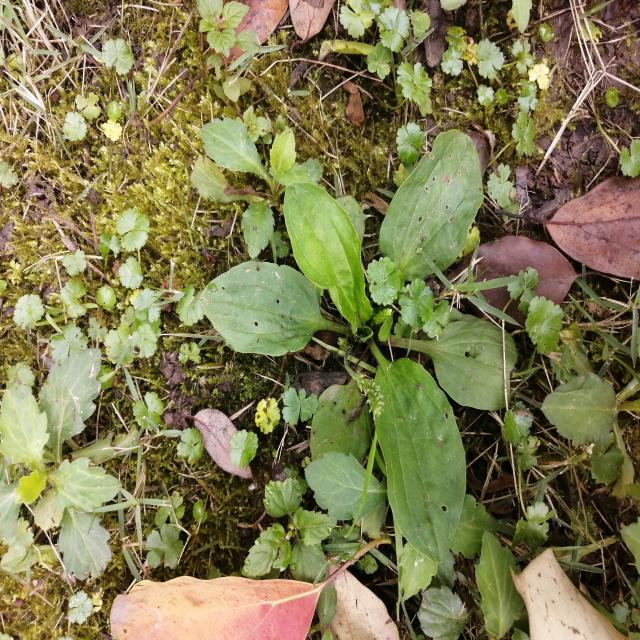plantain: (213, 174, 518, 536)
